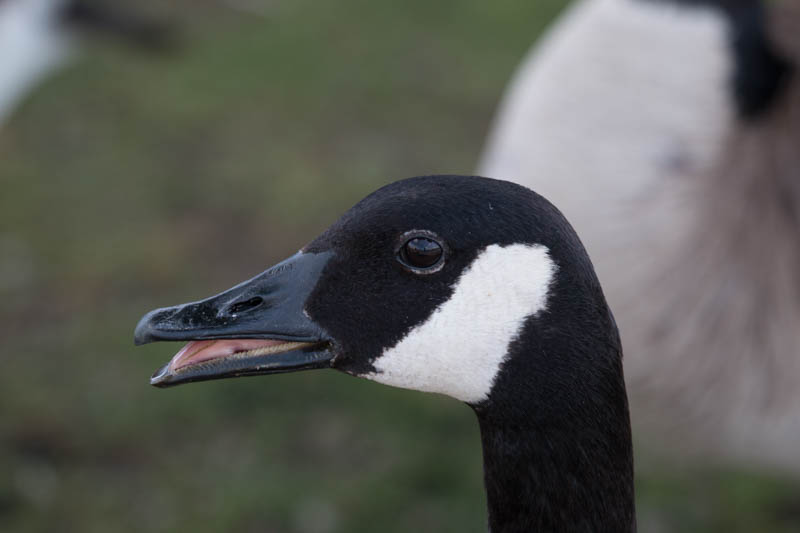goose-head: (131, 175, 624, 413)
